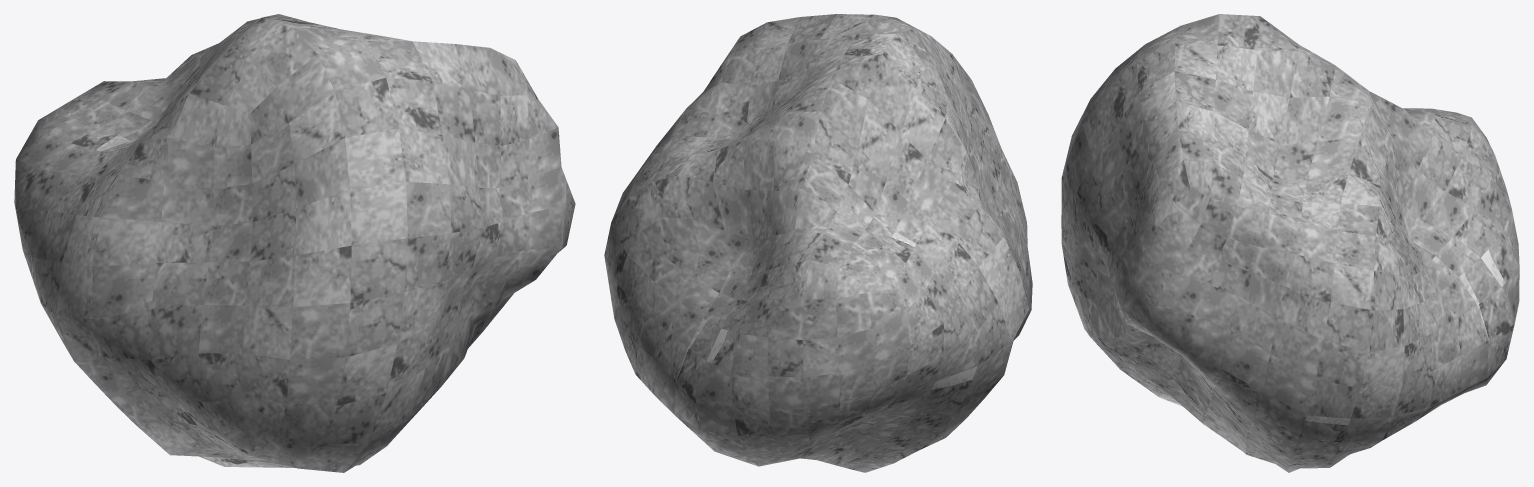
The model's file is rockvar3.fbx.
The picture shows the model from 3 angles, left to right: view 1: azimuth 30°, elevation 25°; view 2: azimuth 150°, elevation 25°; view 3: azimuth 270°, elevation 25°; orthographic projection. The views are drawn at different scales.
Parts seen in each view (by area): view 1: RockVar3; view 2: RockVar3; view 3: RockVar3.
Part boxes in pixels (x1,y1,x2,y2): RockVar3: [14, 14, 575, 472]; RockVar3: [604, 14, 1032, 472]; RockVar3: [1061, 14, 1519, 472].
Bounding box in the file's own units: 74.99 × 75 × 74.96.
